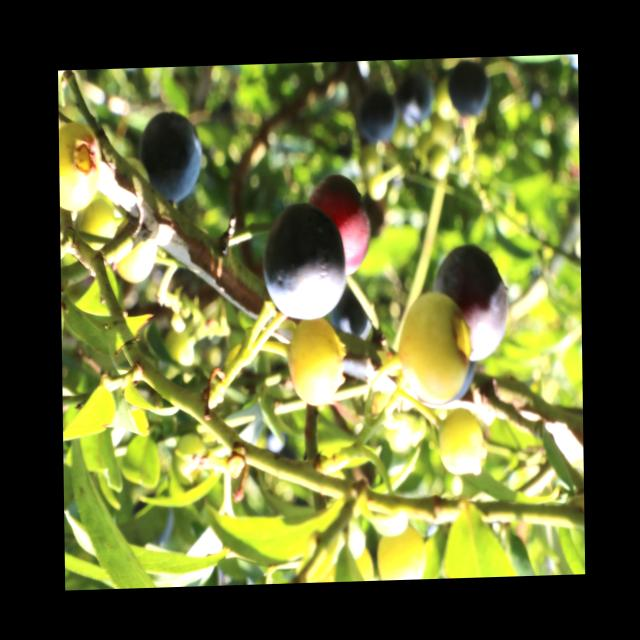blueberry: (264, 202, 350, 322), (431, 242, 510, 362), (140, 110, 207, 200), (445, 60, 495, 122), (357, 91, 398, 141), (397, 76, 436, 124)
blueberry-halfripe: (307, 170, 373, 279)
blueberry-unripe: (400, 289, 473, 411), (284, 315, 346, 407), (58, 116, 106, 214), (440, 405, 488, 479), (110, 215, 156, 285), (376, 519, 424, 581)
